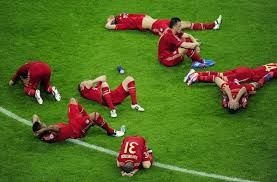falling: (185, 52, 276, 93)
